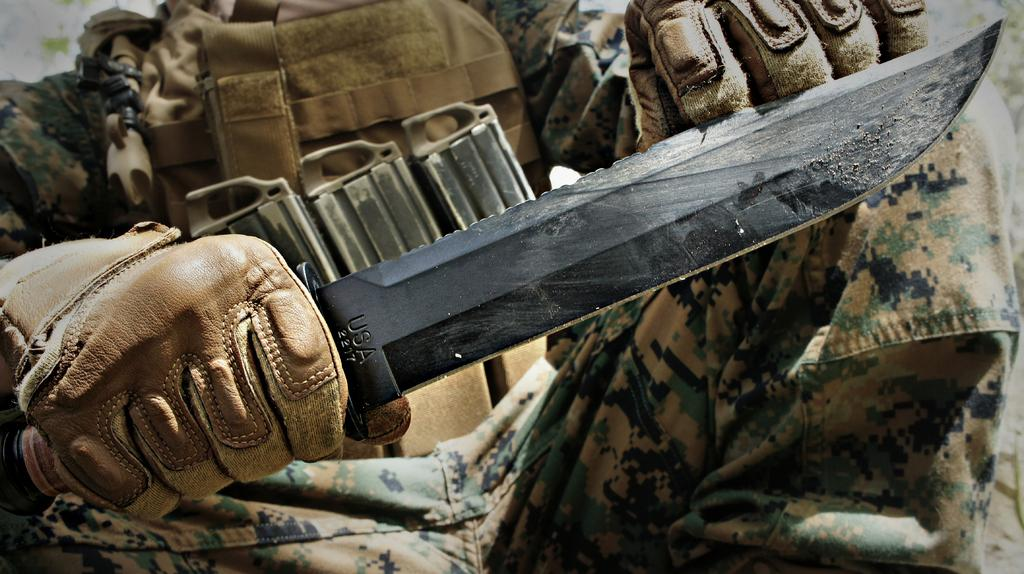Knife: (0, 16, 1005, 520)
